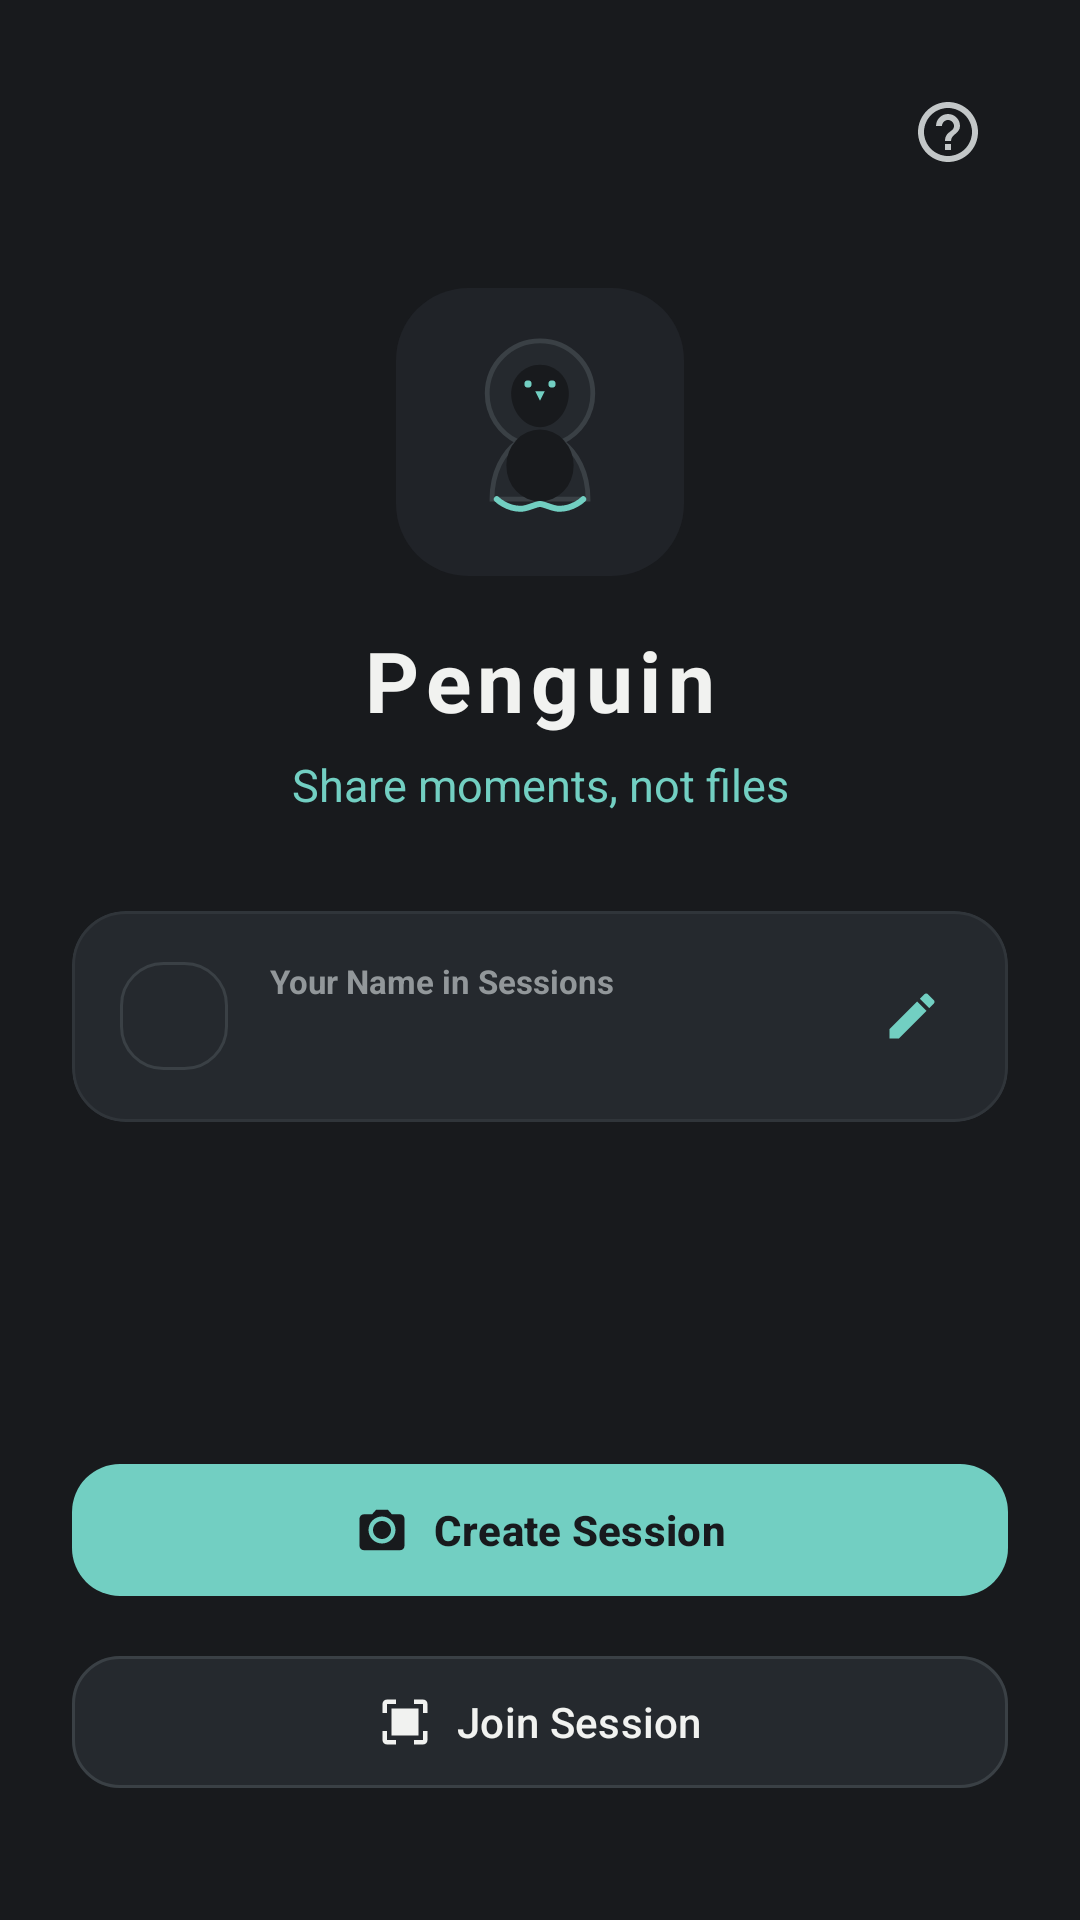

Where icons sit on this 1080×1920 app screen, as region(x1, y1, x2, y2):
About Penguin: region(918, 102, 978, 162)
Edit Name: region(889, 993, 935, 1039)
